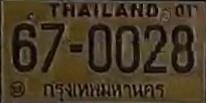0: (115, 24, 139, 72), (88, 23, 110, 72)
2: (143, 23, 166, 72)
6: (11, 22, 36, 71)
7: (40, 22, 64, 72)
8: (171, 24, 194, 72)
BKK: (42, 79, 169, 101)
